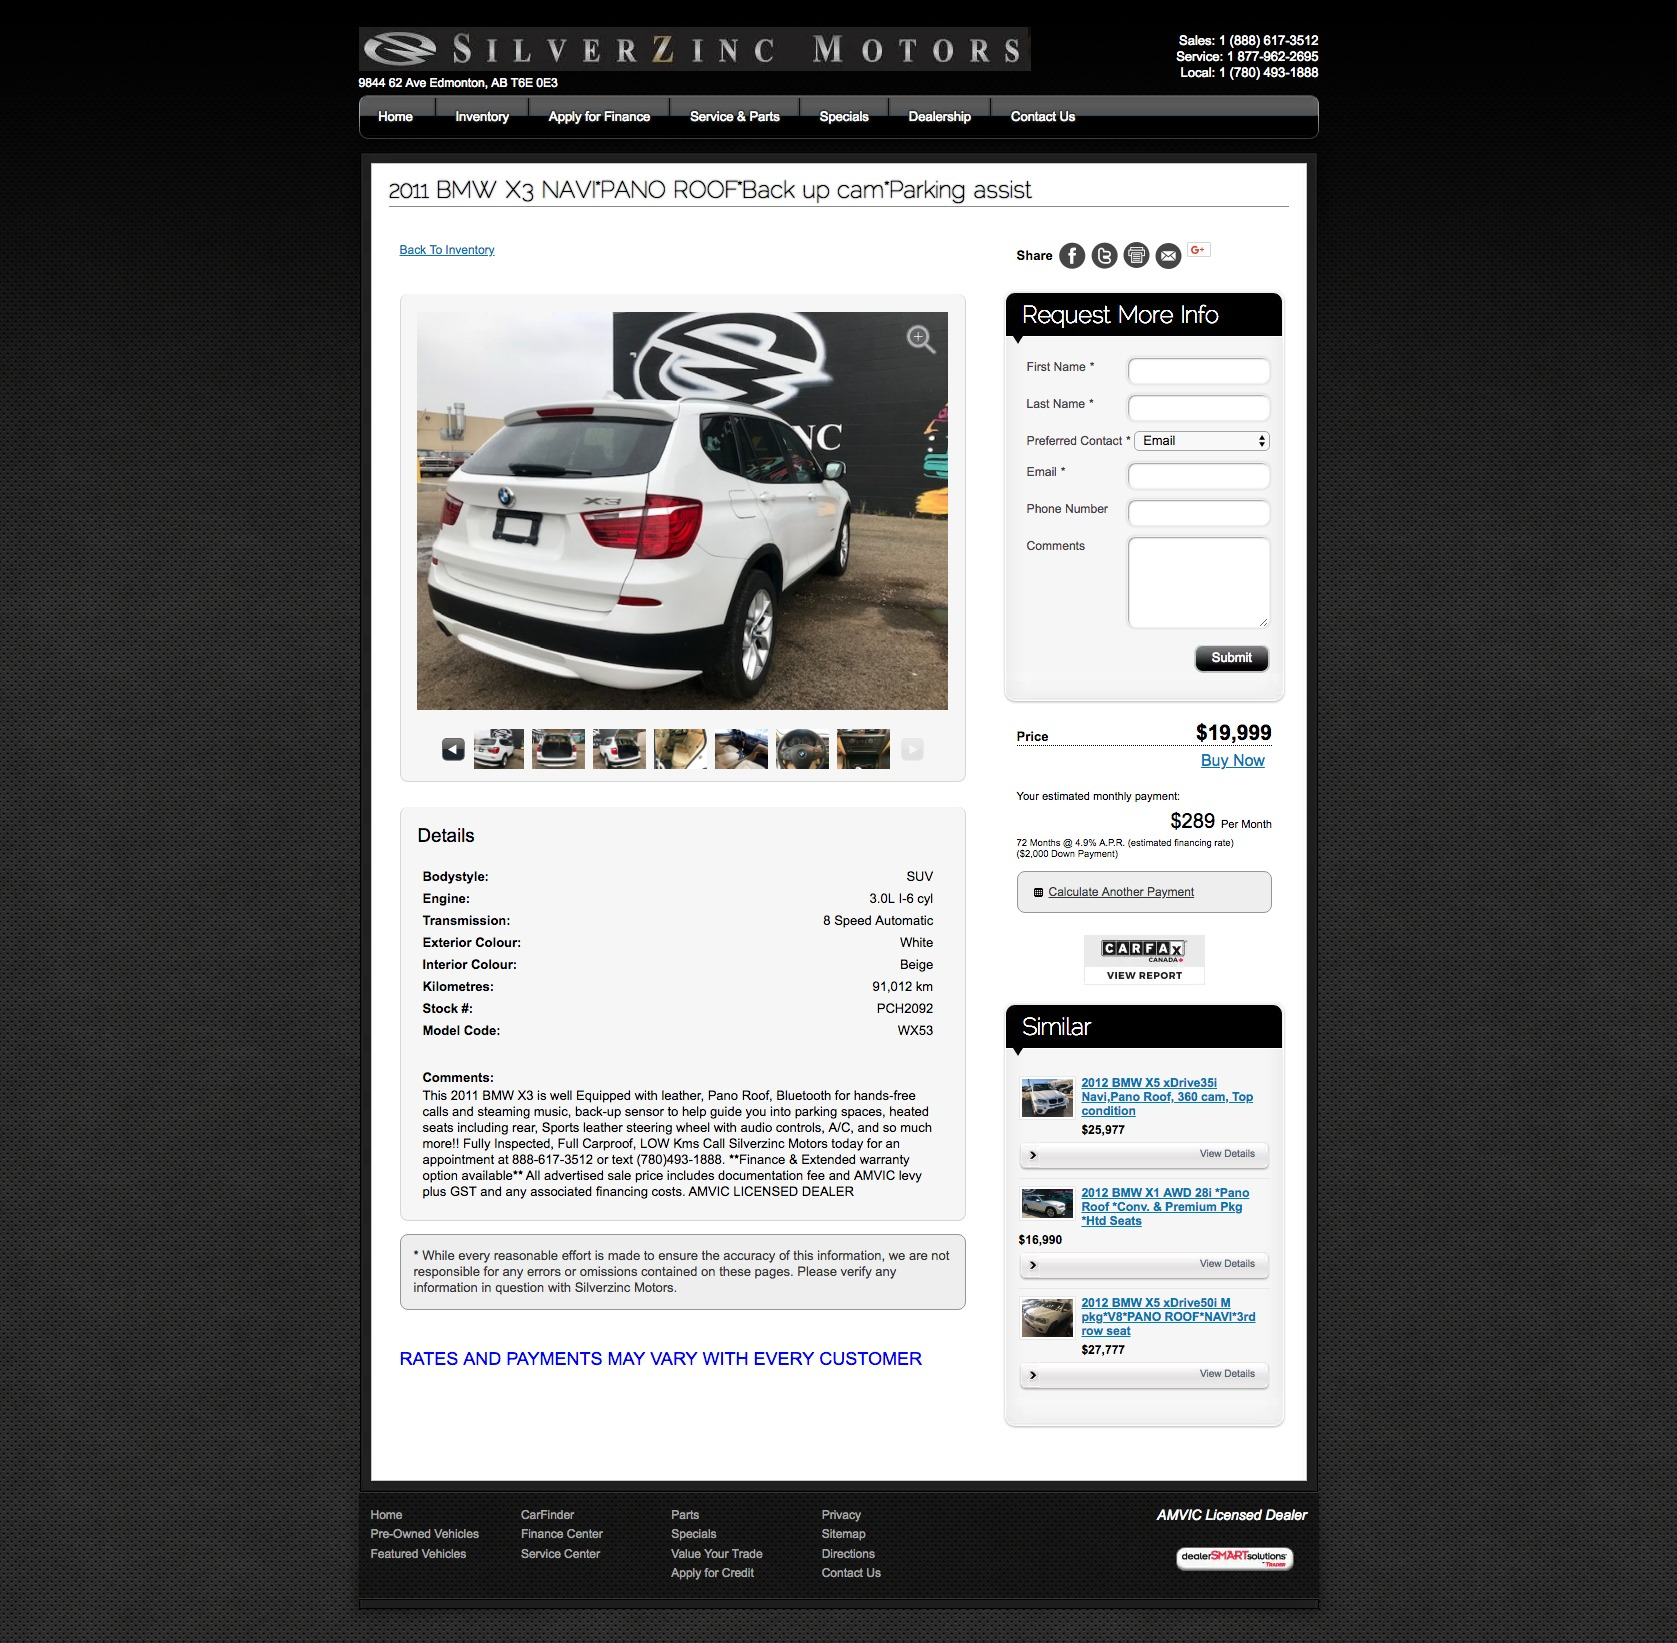car: (910, 743, 917, 755)
